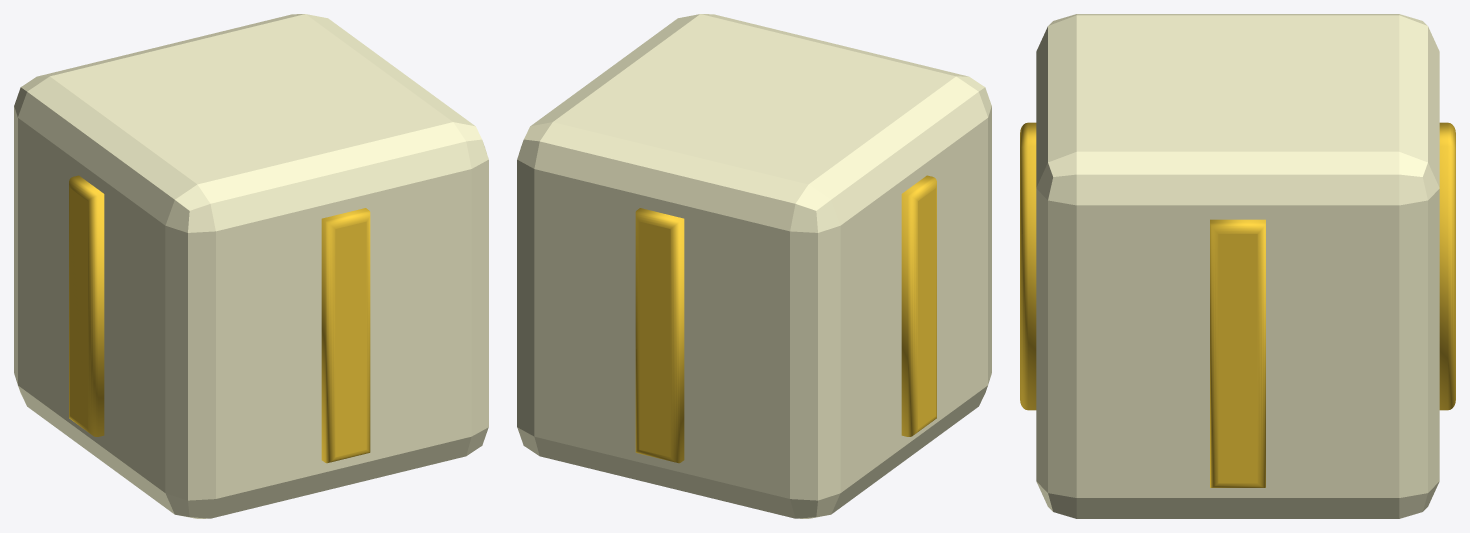
3 views of the same model, side by side, from view 1: azimuth 30°, elevation 25°; view 2: azimuth 150°, elevation 25°; view 3: azimuth 270°, elevation 25° (orthographic). The views are drawn at different scales.
Visible parts, largest first — view 1: 1; view 2: 1; view 3: 1.
Boxes of the visible parts, x1=… form: 1: x1=14, y1=14, x2=488, y2=518; 1: x1=517, y1=14, x2=991, y2=518; 1: x1=1020, y1=14, x2=1455, y2=518.
Size of the model in its own units: 216 by 200 by 216.
